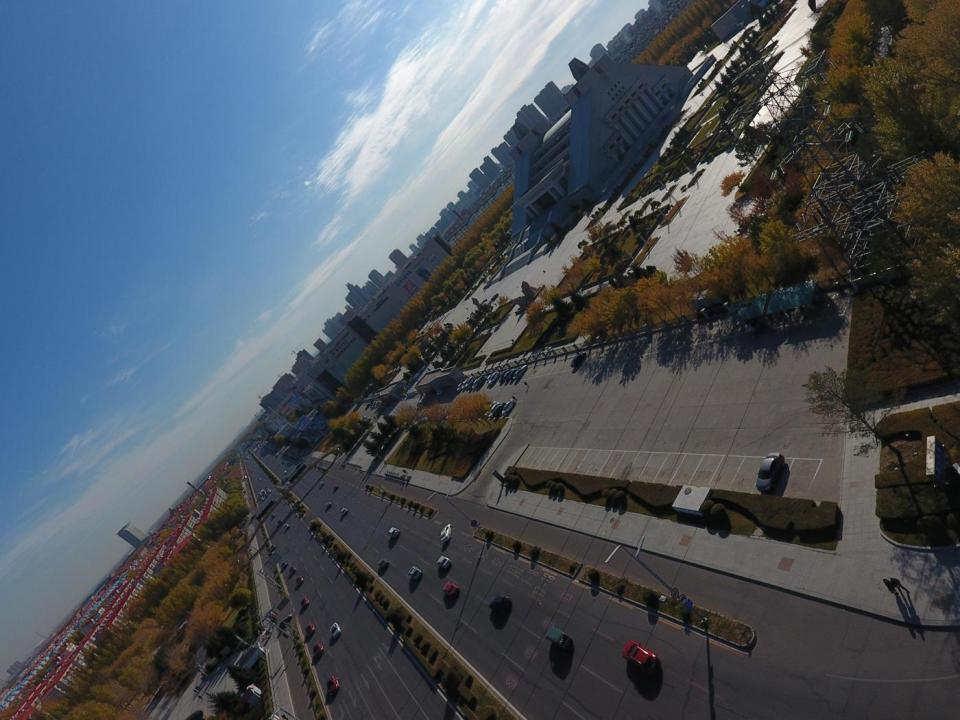car: (620, 640, 660, 675), (756, 451, 784, 494), (488, 595, 512, 613), (442, 581, 460, 599), (569, 352, 587, 369), (326, 674, 339, 696), (440, 523, 453, 544), (493, 401, 508, 418), (489, 402, 504, 418), (484, 401, 498, 418), (278, 614, 292, 631), (329, 622, 343, 639), (501, 400, 516, 415), (408, 566, 422, 581), (437, 555, 452, 569), (513, 365, 527, 379), (488, 371, 502, 385), (474, 375, 487, 390), (312, 642, 324, 658), (509, 366, 522, 380), (468, 376, 480, 391), (498, 369, 511, 382), (504, 368, 516, 381), (472, 377, 483, 390), (462, 377, 473, 390), (387, 527, 400, 538), (304, 623, 315, 636), (486, 372, 497, 384), (377, 558, 389, 569), (457, 379, 467, 392), (300, 596, 310, 609), (465, 376, 475, 388), (454, 380, 464, 392), (296, 576, 304, 586), (340, 507, 348, 515), (361, 419, 369, 426), (359, 416, 366, 424), (289, 566, 296, 574), (325, 501, 332, 508), (374, 400, 380, 408), (366, 402, 372, 410), (280, 561, 286, 569), (370, 402, 376, 409), (436, 390, 444, 395), (371, 400, 376, 408), (360, 418, 366, 424), (250, 514, 256, 520), (332, 484, 338, 490), (270, 544, 276, 550), (284, 523, 289, 530), (365, 418, 370, 424), (277, 520, 283, 525), (272, 498, 277, 503), (319, 482, 324, 487), (271, 513, 274, 519), (284, 471, 288, 474), (267, 490, 271, 493), (265, 494, 268, 498), (259, 494, 262, 498), (266, 488, 270, 491), (265, 486, 268, 490), (259, 477, 261, 481), (261, 499, 264, 501), (260, 497, 263, 499), (258, 492, 261, 494), (263, 492, 265, 494)
truck: (260, 489, 265, 494)
van: (545, 625, 572, 655)
